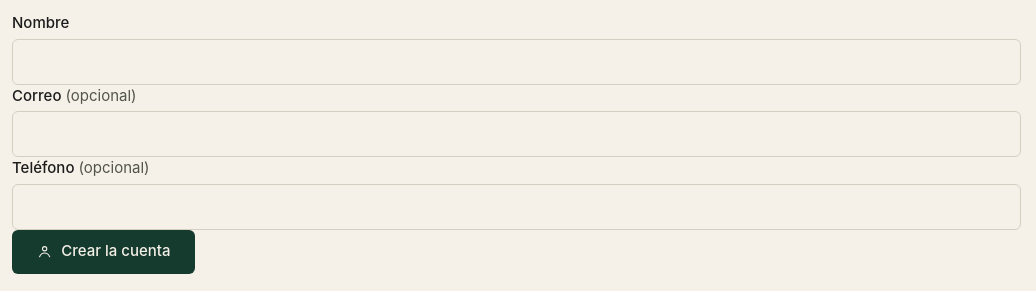
it: DonorProvisionForm › después de crear no deja Crear la cuenta otra vez
Type "Ana" into the field labelled "Nombre". click: [516, 62]
box: [12,38,1021,84]
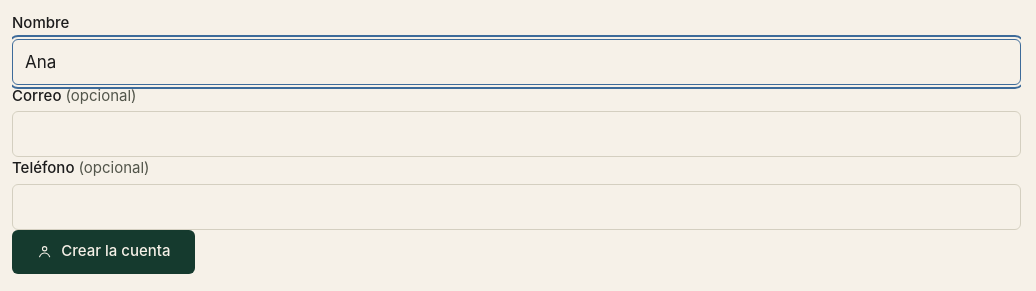
Click the button "Crear la cuenta". click: [103, 252]
box: [12,230,195,274]
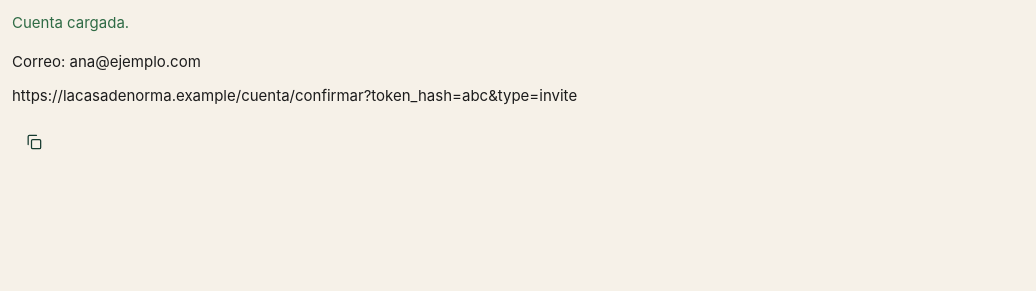
Result: the text "Cuenta cargada." is shown at [12,13,129,32]
Result: the text "https://lacasadenorma.example/cuenta/confirmar?token_hash=abc&type=invite" is shown at [12,86,577,105]
Result: the button "Crear la cuenta" is gone
